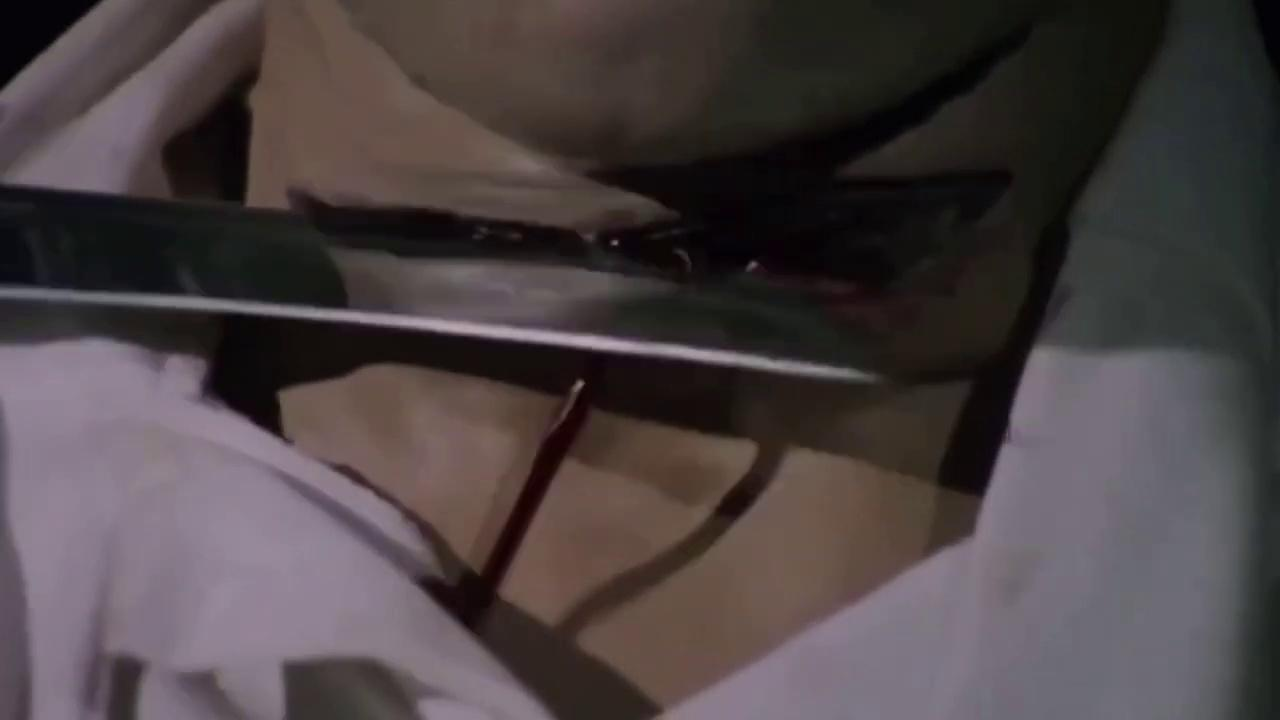Fire: (288, 188, 719, 285), (484, 381, 590, 586), (738, 253, 907, 340)
